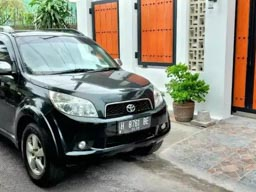plat: (117, 116, 152, 131)
